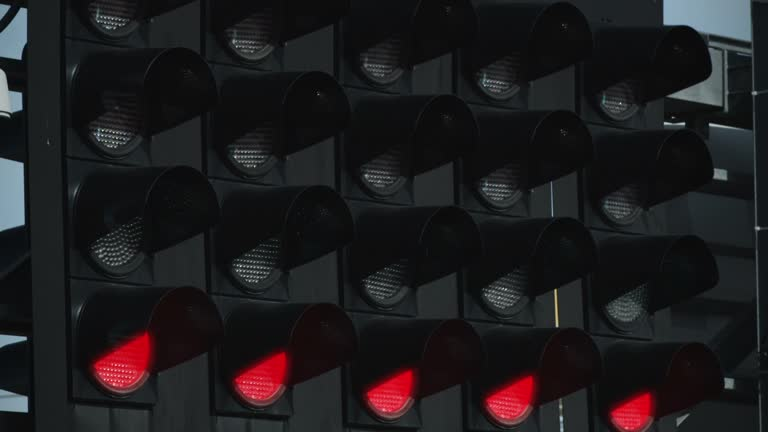Traffic Signal: (26, 5, 727, 430)
